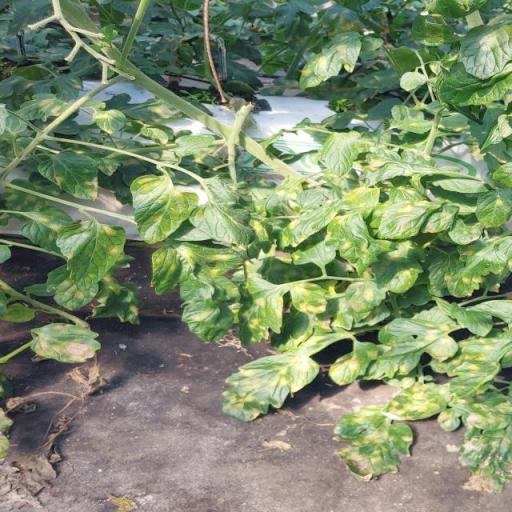disease_tomato: (149, 243, 246, 343), (220, 352, 321, 423), (365, 317, 459, 382), (332, 411, 414, 485), (190, 170, 254, 252), (128, 172, 200, 244), (56, 221, 128, 291), (448, 333, 512, 399), (300, 30, 364, 92), (236, 278, 284, 348), (38, 150, 100, 202), (30, 322, 106, 364), (382, 382, 454, 422), (45, 262, 101, 312), (376, 198, 442, 240), (328, 342, 378, 386), (344, 281, 387, 313), (290, 282, 330, 316)
